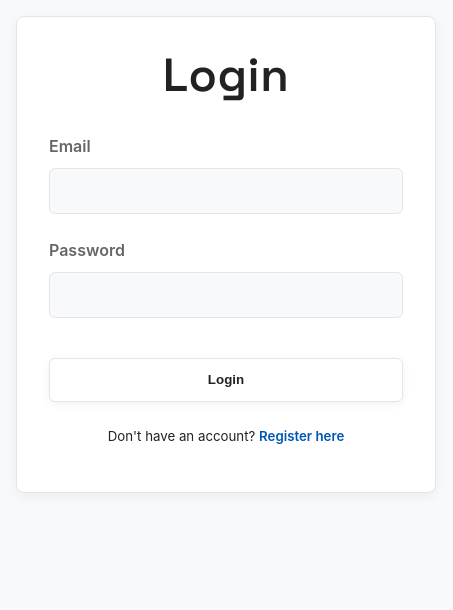
Test: UserLoginPage › should show error on failed login
This screenshot has width=453, height=610.
Type "test@example.com" into the field labelled "Email" at (226, 191), box [49, 168, 403, 214]
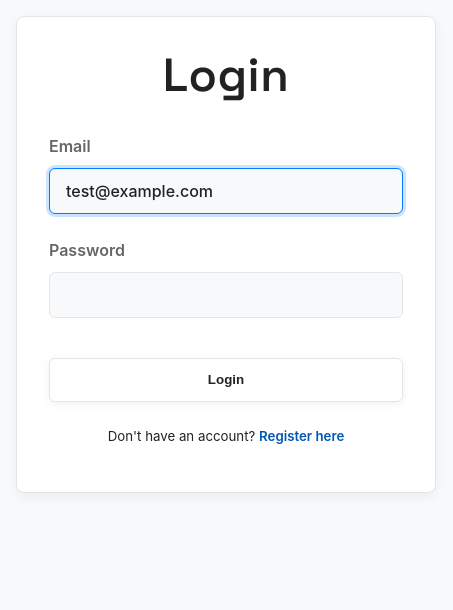
Type "wrongpassword" into the password field labelled "Password" at (226, 294), box [49, 272, 403, 318]
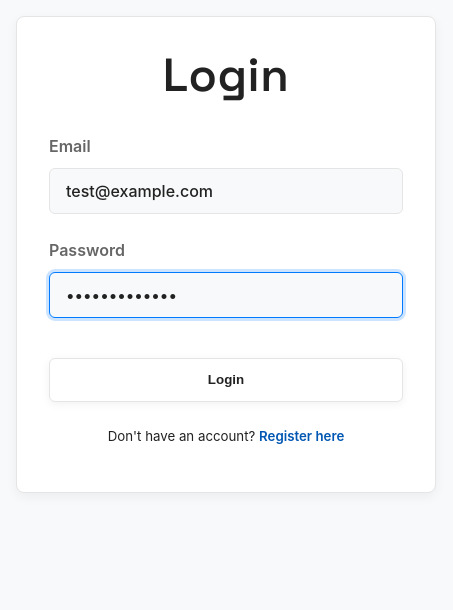
Click the button "Login" at (226, 380), box [49, 358, 403, 402]
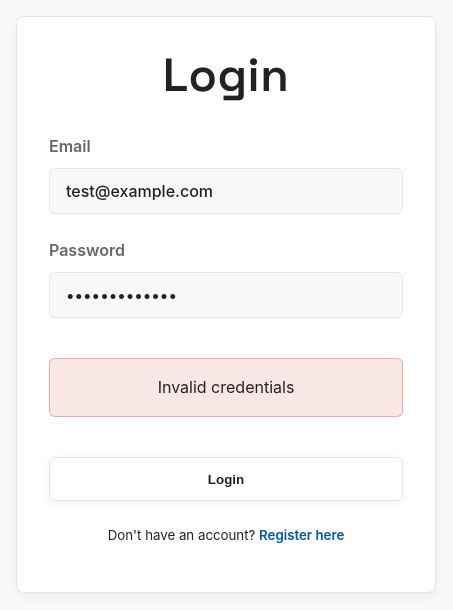
Result: the text "Invalid credentials" is shown at [49, 358, 403, 417]
